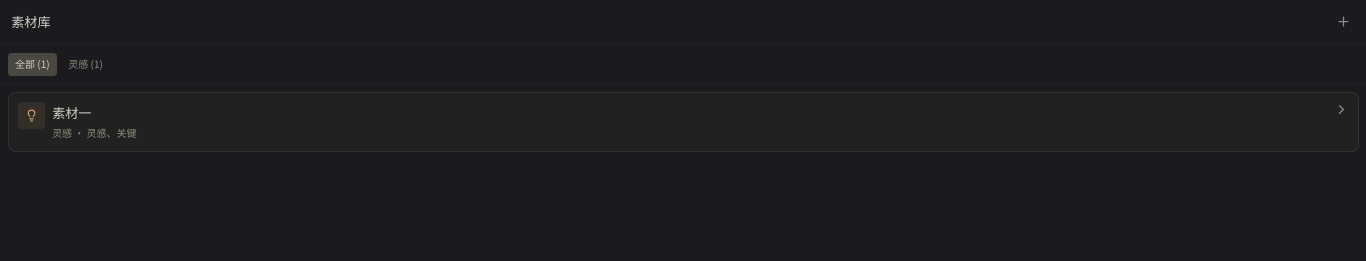
Test: MaterialsPanel › 点击卡片展开显示内容
Expected: the text "展开后的内容" is not shown
Click the text "素材一" at (71, 113), box [52,102,91,123]
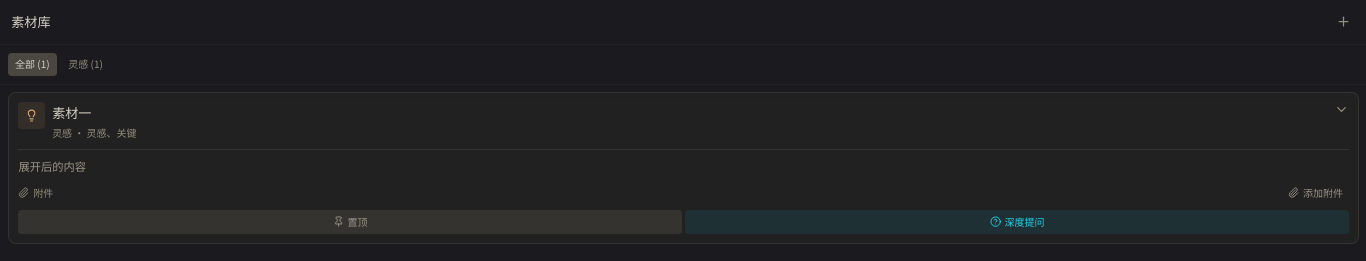
Result: the text "展开后的内容" is shown at [18,158,85,174]
